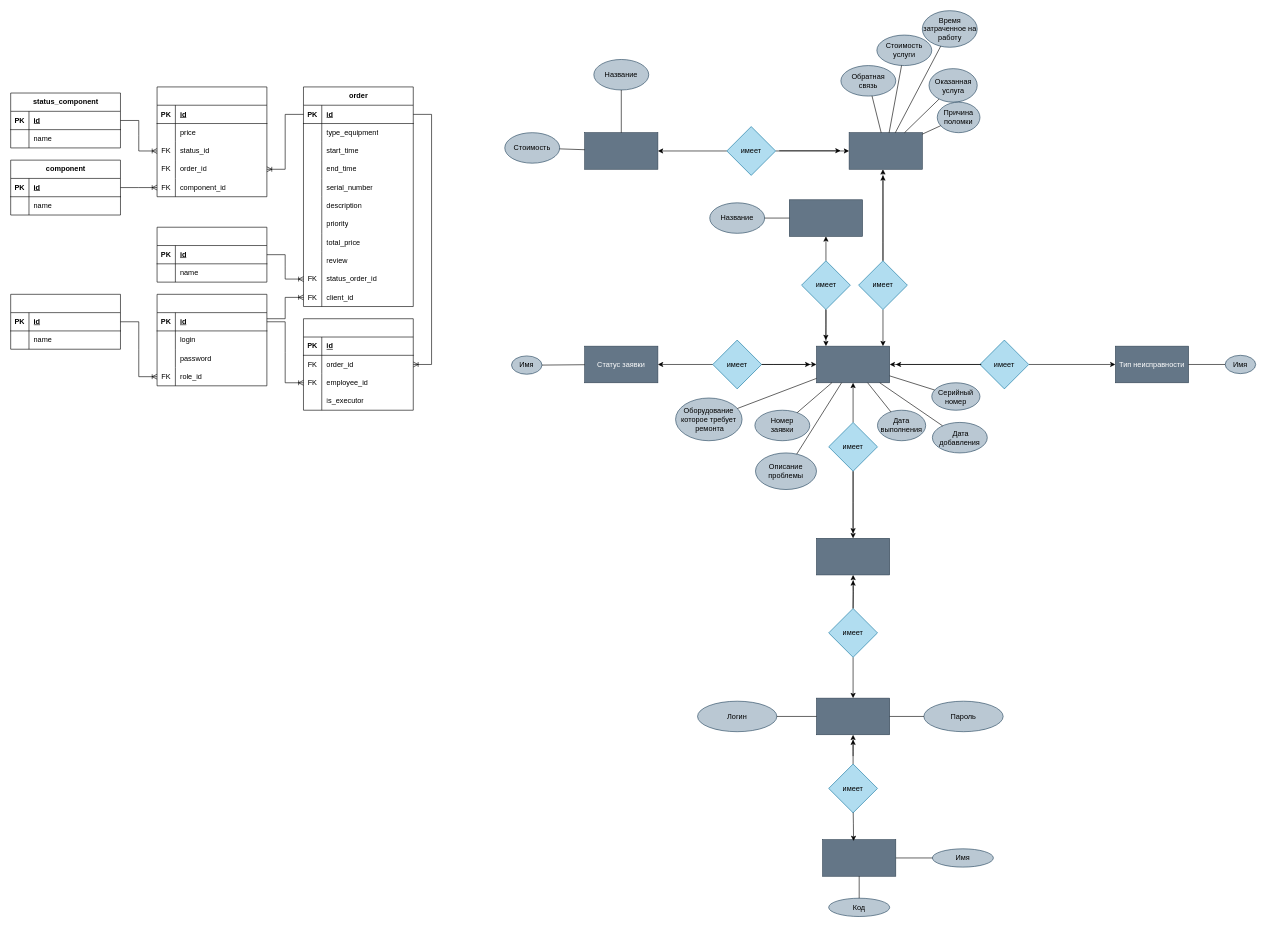
The diagram is 1266 pixels wide and 927 high, and some of its shapes have lost their labels. Each missing label, with the box of its shape:
order_component: (156, 86, 267, 197)
order_employee: (303, 318, 413, 410)
role: (10, 294, 120, 349)
status_order: (156, 227, 267, 282)
user: (156, 294, 267, 386)
Заказ: (816, 538, 890, 575)
Запчасти: (584, 132, 658, 169)
Заявка: (816, 346, 890, 383)
Отчёт: (849, 132, 922, 169)
Пользователь: (816, 698, 890, 735)
Приоритетность: (789, 199, 863, 236)
Роль: (822, 839, 896, 876)
